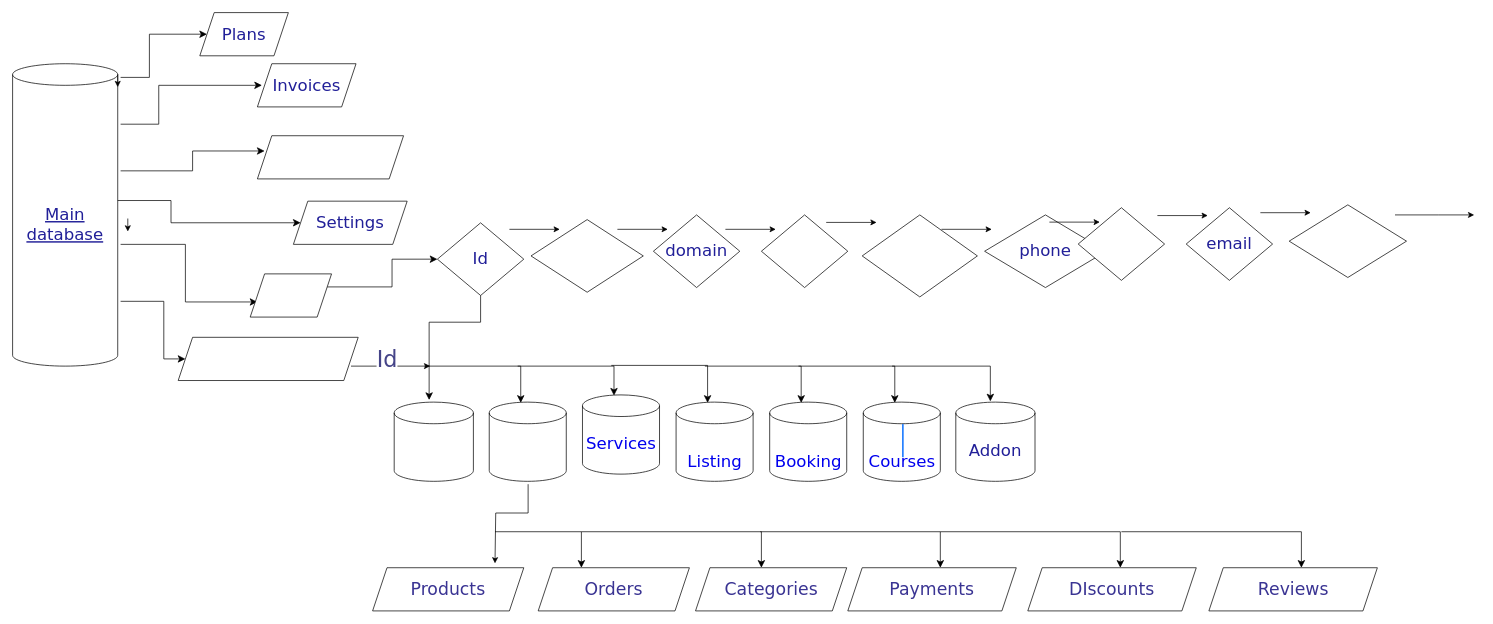
The diagram is 1493 pixels wide and 624 high, and some of its shapes have lost their labels. The shapes that lost their labels are listed below. From the top down, each one's centre as x and y in pixels, then its label:
At point (330, 157): "Subscriptions".
At point (586, 255): "first_name".
At point (804, 251): "role".
At point (919, 255): "last_name".
At point (1121, 243): "country".
At point (1347, 240): "password".
At point (290, 295): "Users".
At point (267, 359): "client_customers".
At point (433, 441): "Web builder".
At point (527, 441): "Store".
